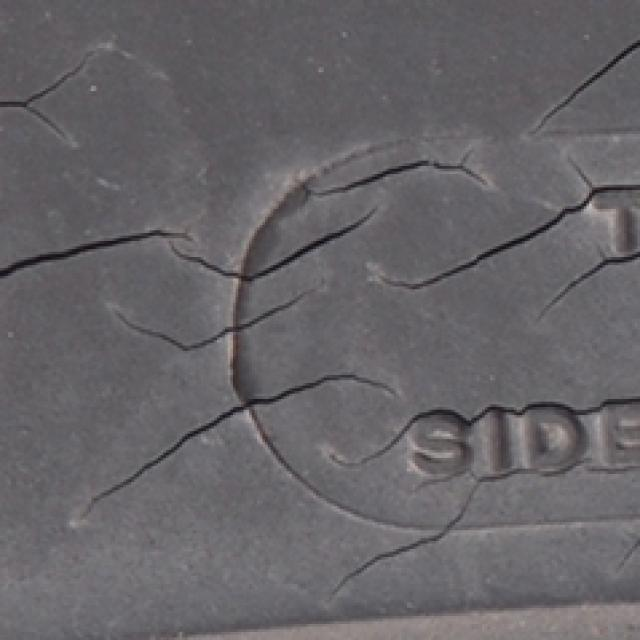Cracks: (0, 15, 637, 620)
